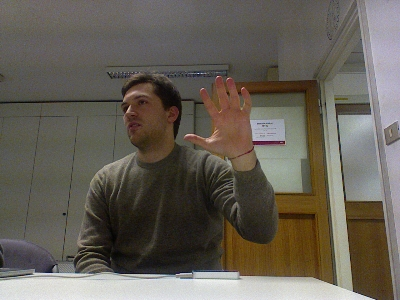布: (182, 74, 253, 156)
